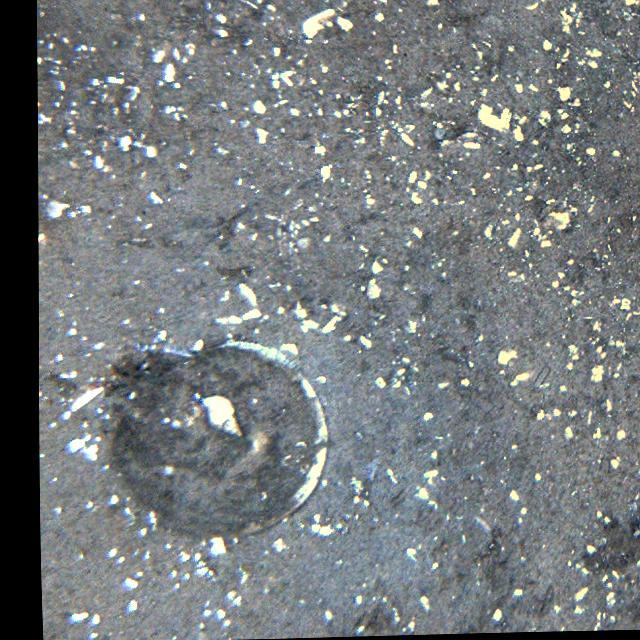scallop: (112, 338, 332, 528)
